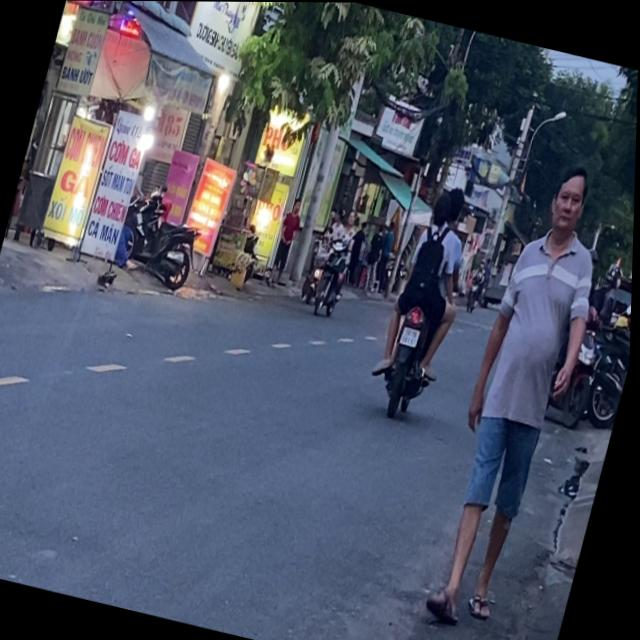licenseplate: (364, 175, 487, 423)
motorcyclist: (428, 185, 457, 228), (439, 185, 468, 228)
nohelmet: (401, 324, 421, 345)
